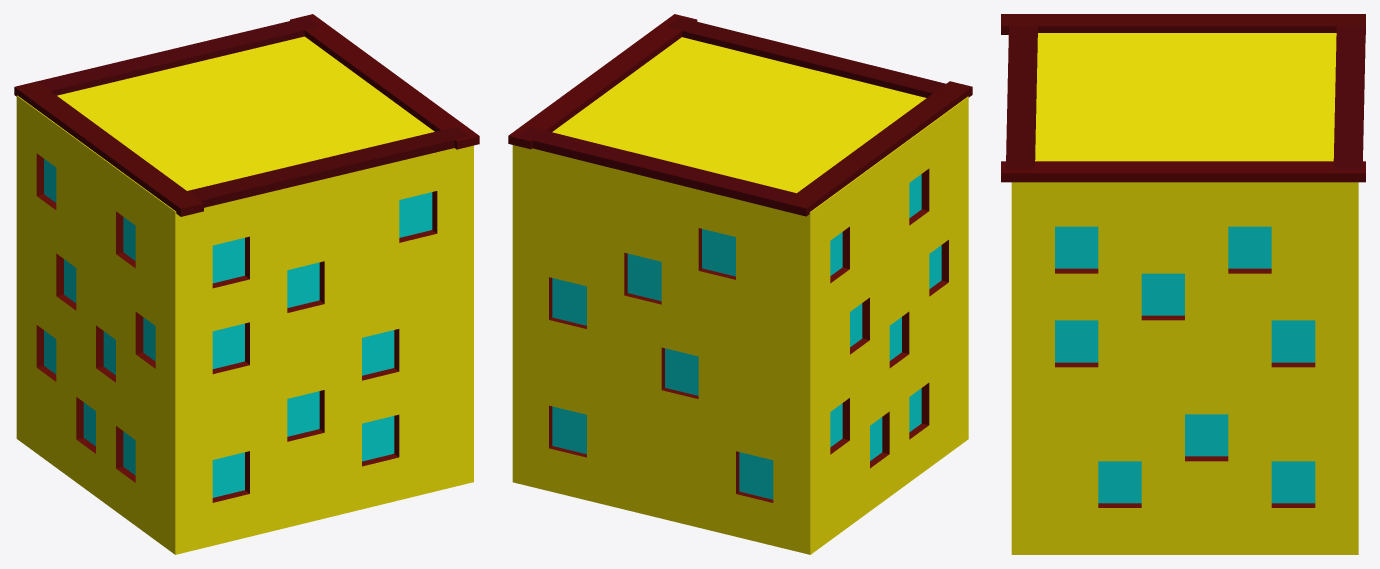
File: building 2 (yellow).fbx
The picture shows the model from 3 angles, left to right: view 1: azimuth 30°, elevation 25°; view 2: azimuth 150°, elevation 25°; view 3: azimuth 270°, elevation 25°; orthographic projection. The views are drawn at different scales.
Visible parts, largest first — view 1: Cube, Cube.005, Cube.004, Cube.003, Cube.002; view 2: Cube, Cube.004, Cube.005, Cube.003, Cube.002; view 3: Cube, Cube.002, Cube.003, Cube.004, Cube.005.
Part boxes in pixels (x1=…): Cube: x1=16, y1=36, x2=473, y2=554; Cube.005: x1=187, y1=126, x2=469, y2=207; Cube.004: x1=37, y1=17, x2=319, y2=95; Cube.003: x1=14, y1=81, x2=203, y2=216; Cube.002: x1=290, y1=14, x2=479, y2=149; Cube: x1=512, y1=37, x2=968, y2=554; Cube.004: x1=517, y1=127, x2=803, y2=215; Cube.005: x1=667, y1=17, x2=945, y2=97; Cube.003: x1=783, y1=81, x2=972, y2=216; Cube.002: x1=508, y1=14, x2=697, y2=149; Cube: x1=1011, y1=33, x2=1358, y2=554; Cube.002: x1=1001, y1=161, x2=1365, y2=182; Cube.003: x1=1001, y1=14, x2=1365, y2=34; Cube.004: x1=1333, y1=26, x2=1365, y2=169; Cube.005: x1=1006, y1=26, x2=1037, y2=169.
Size of the model in its own units: 1206 by 1344 by 1163.
